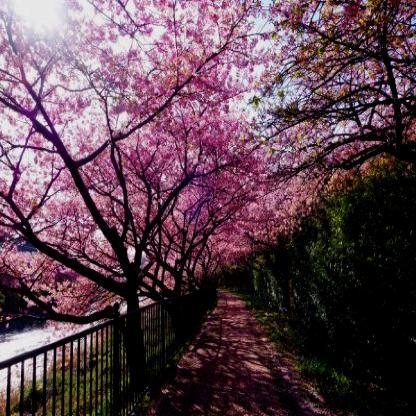KawazuSakura: (3, 0, 416, 318)
